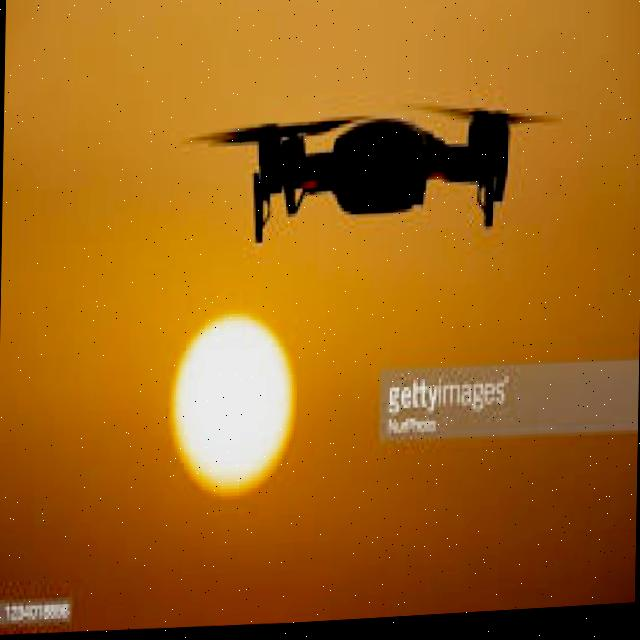drone: (176, 71, 574, 280)
